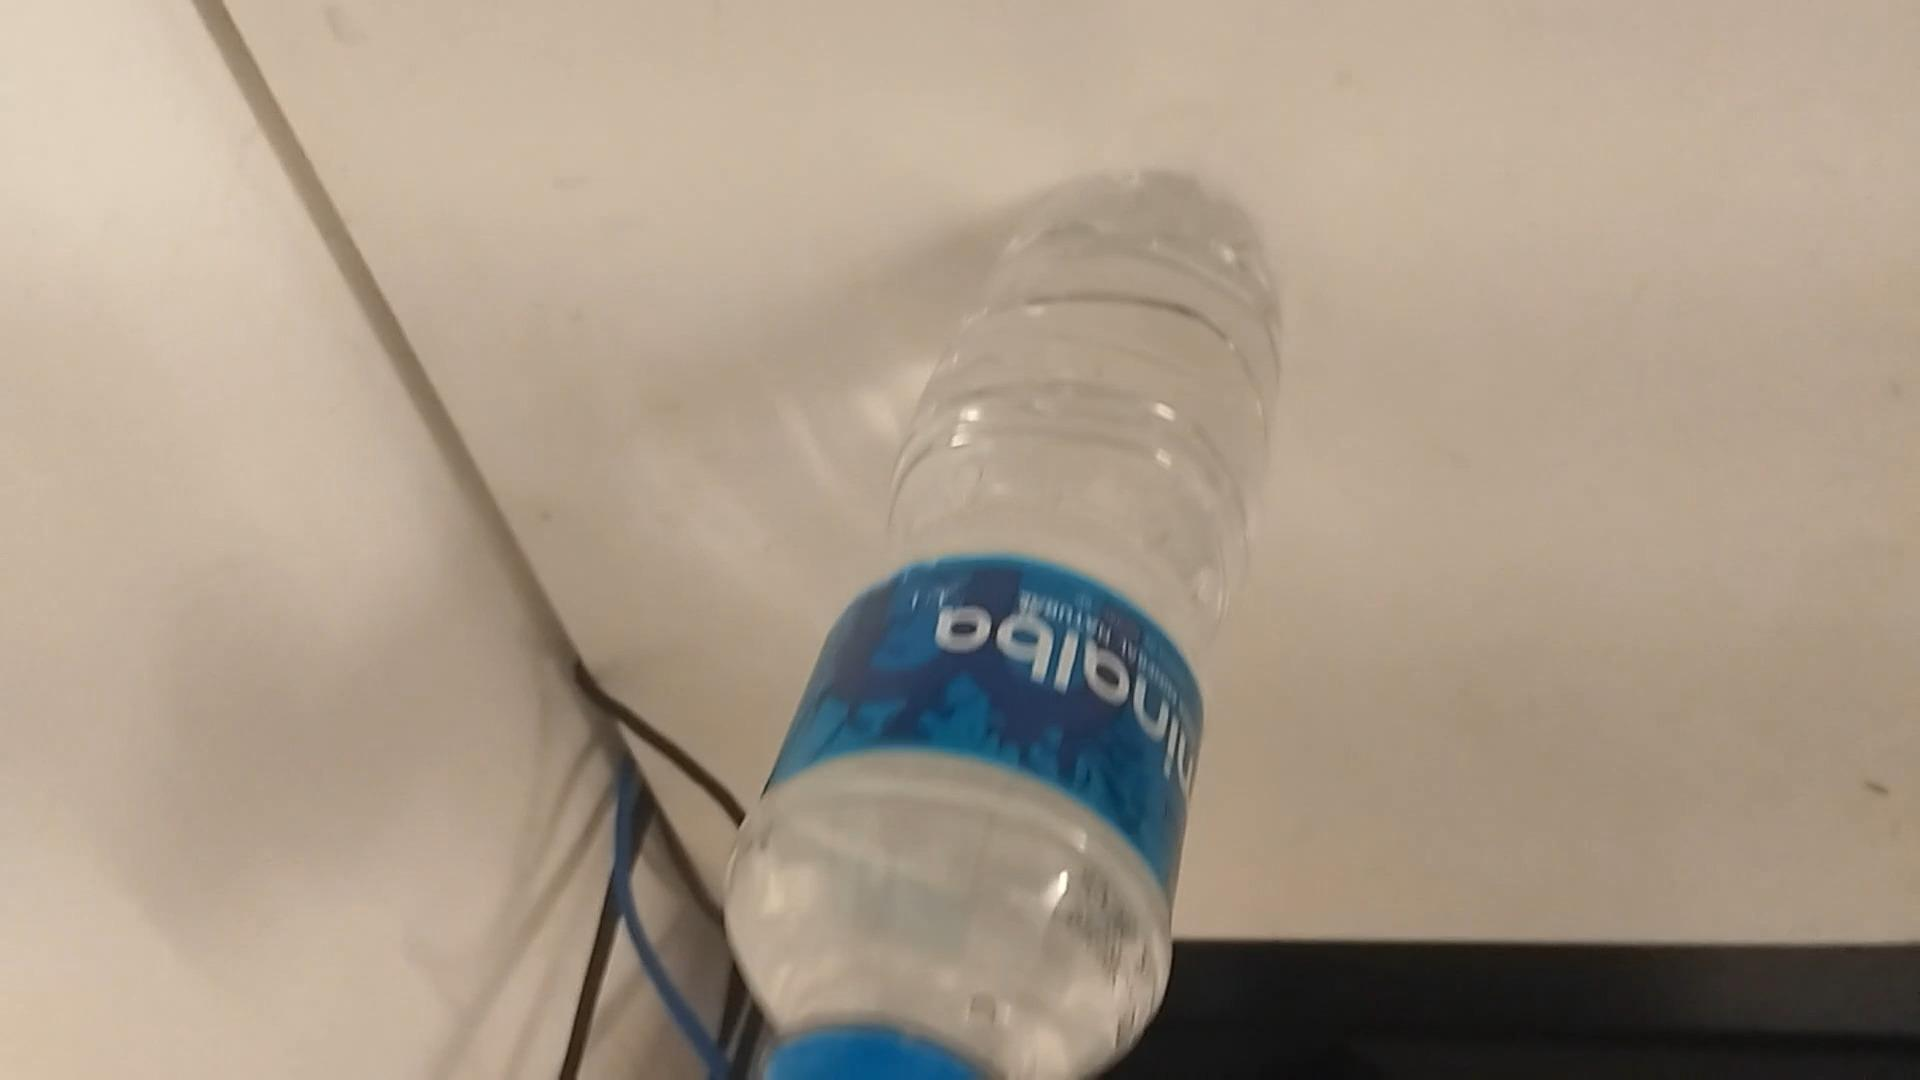agua: (717, 169, 1271, 1080)
